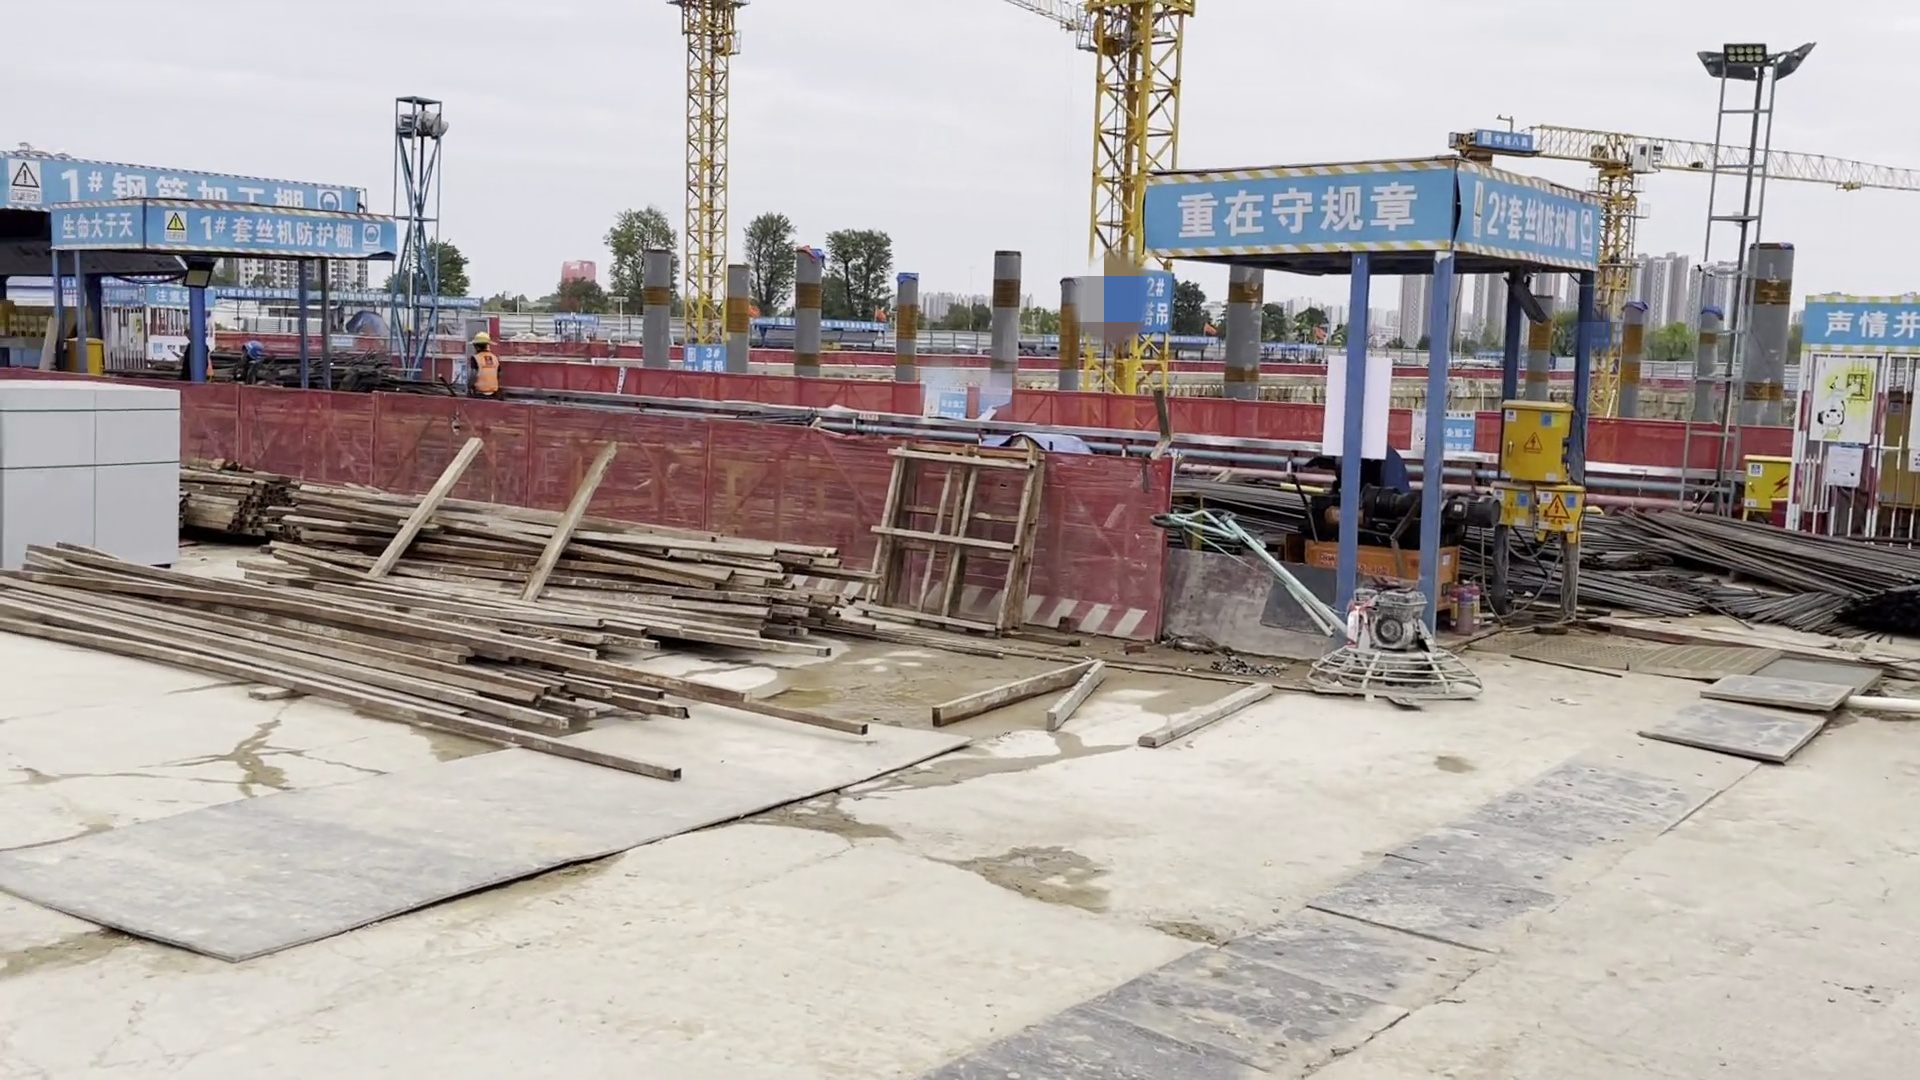brick: (8, 379, 186, 575)
ebox: (1493, 401, 1573, 508), (1744, 461, 1799, 525)
helmet: (469, 327, 493, 352)
person: (465, 331, 505, 403)
rebar: (1569, 490, 1910, 653)
slogan: (1154, 170, 1604, 270), (4, 153, 391, 259), (1816, 299, 1918, 357), (333, 286, 486, 312), (210, 280, 299, 297)
vest: (469, 350, 505, 399)
wood: (34, 466, 875, 766)
